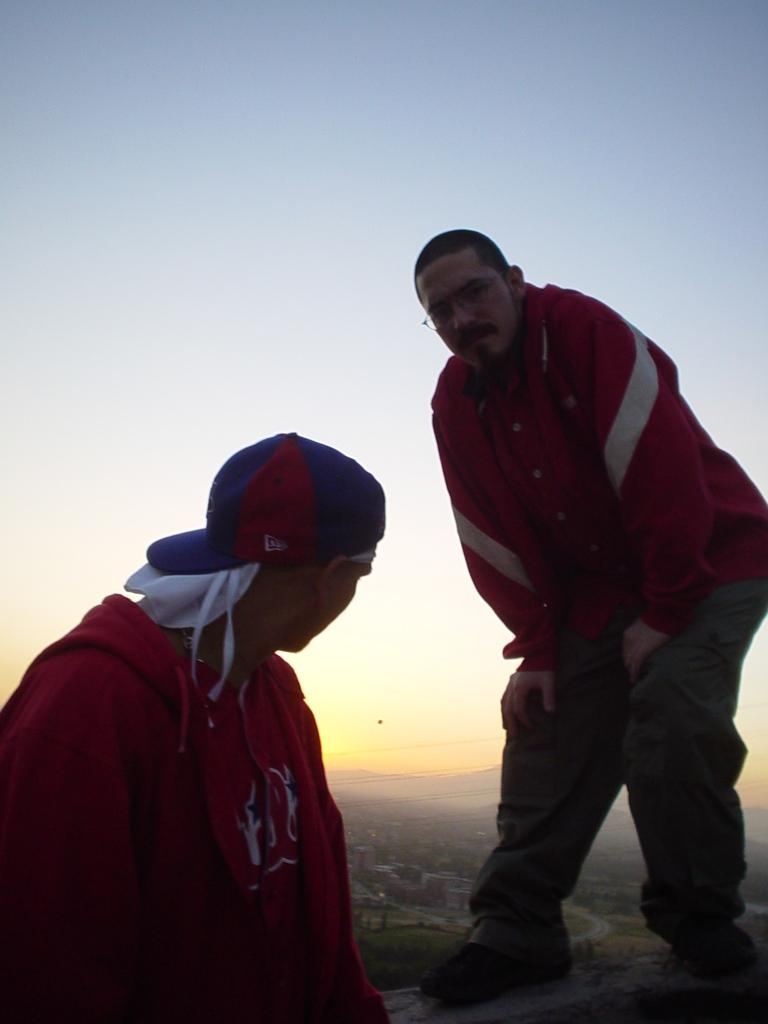Hat: (146, 426, 386, 580)
